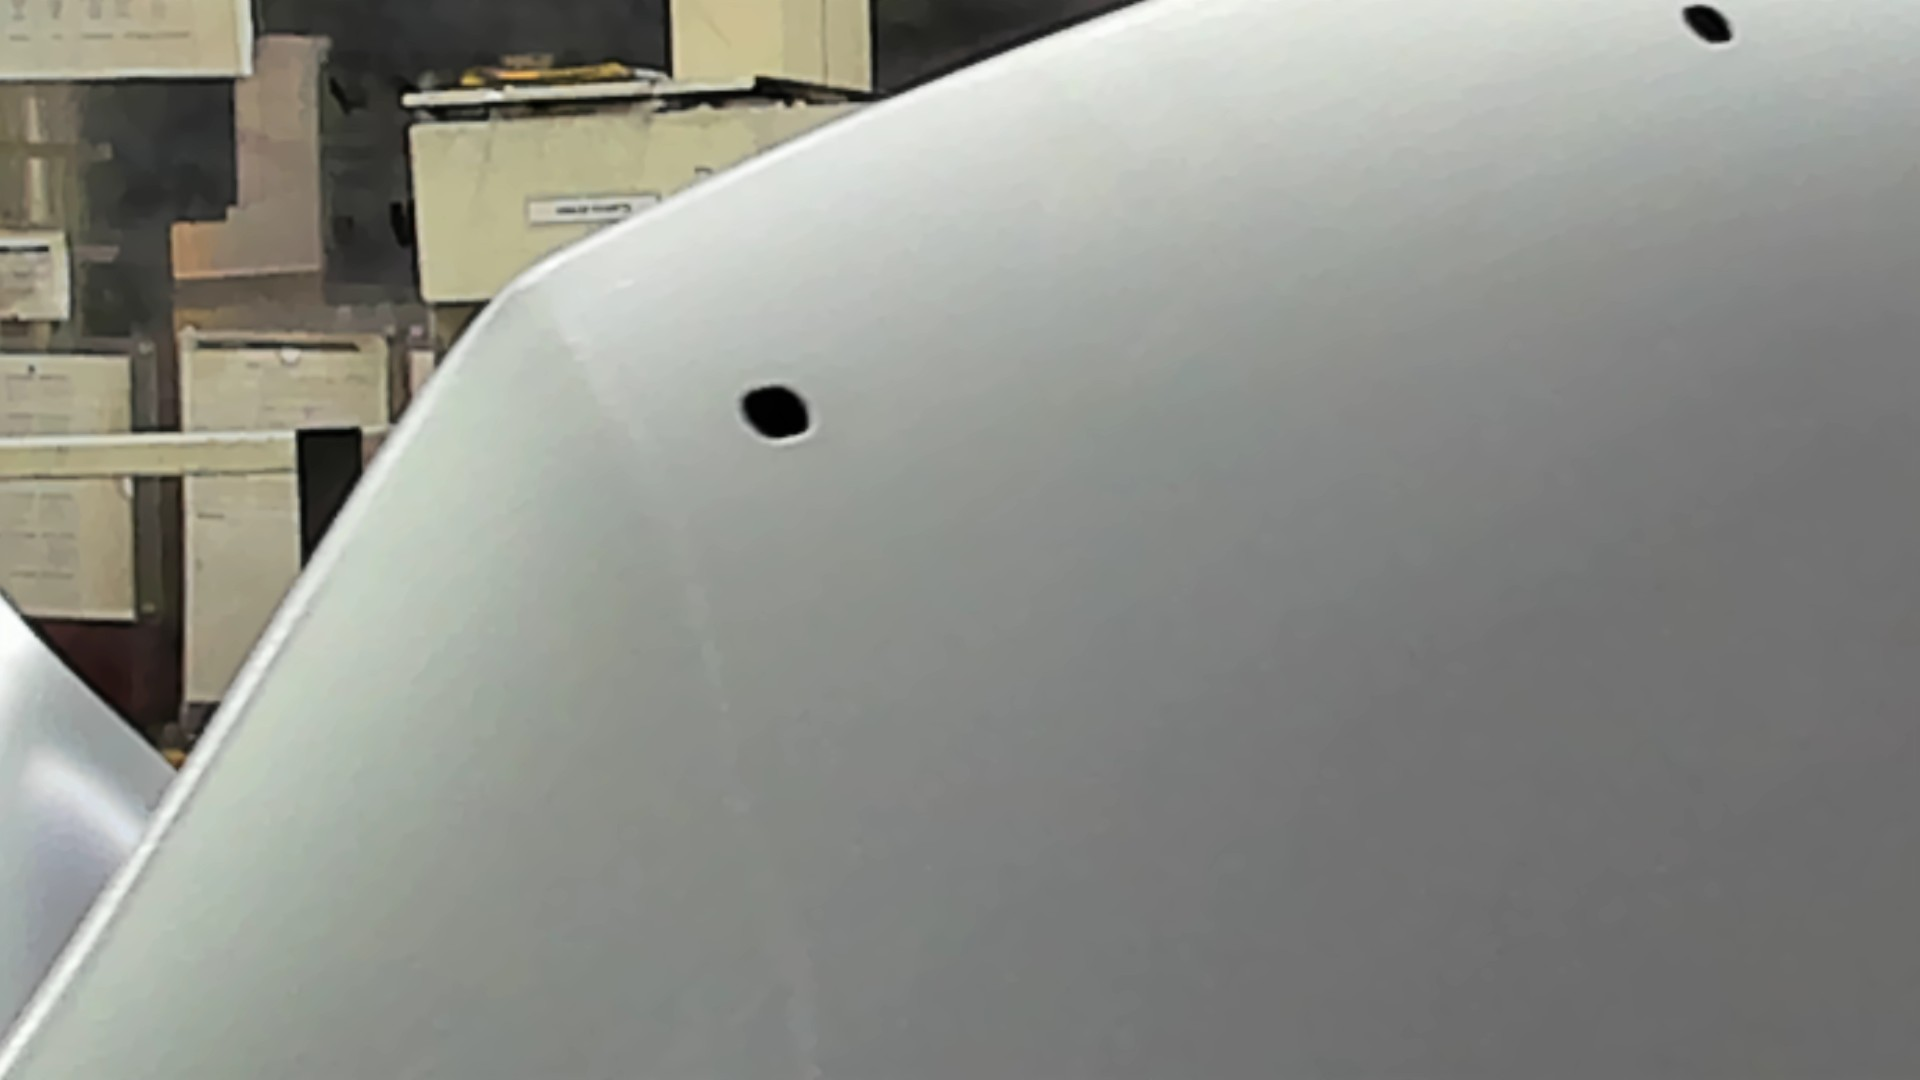amorfo: (738, 378, 816, 442), (1675, 1, 1738, 53)
capo: (928, 119, 1920, 1080)
